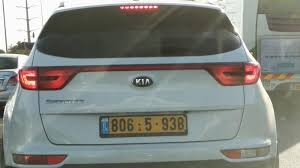licence: (97, 111, 190, 140)
